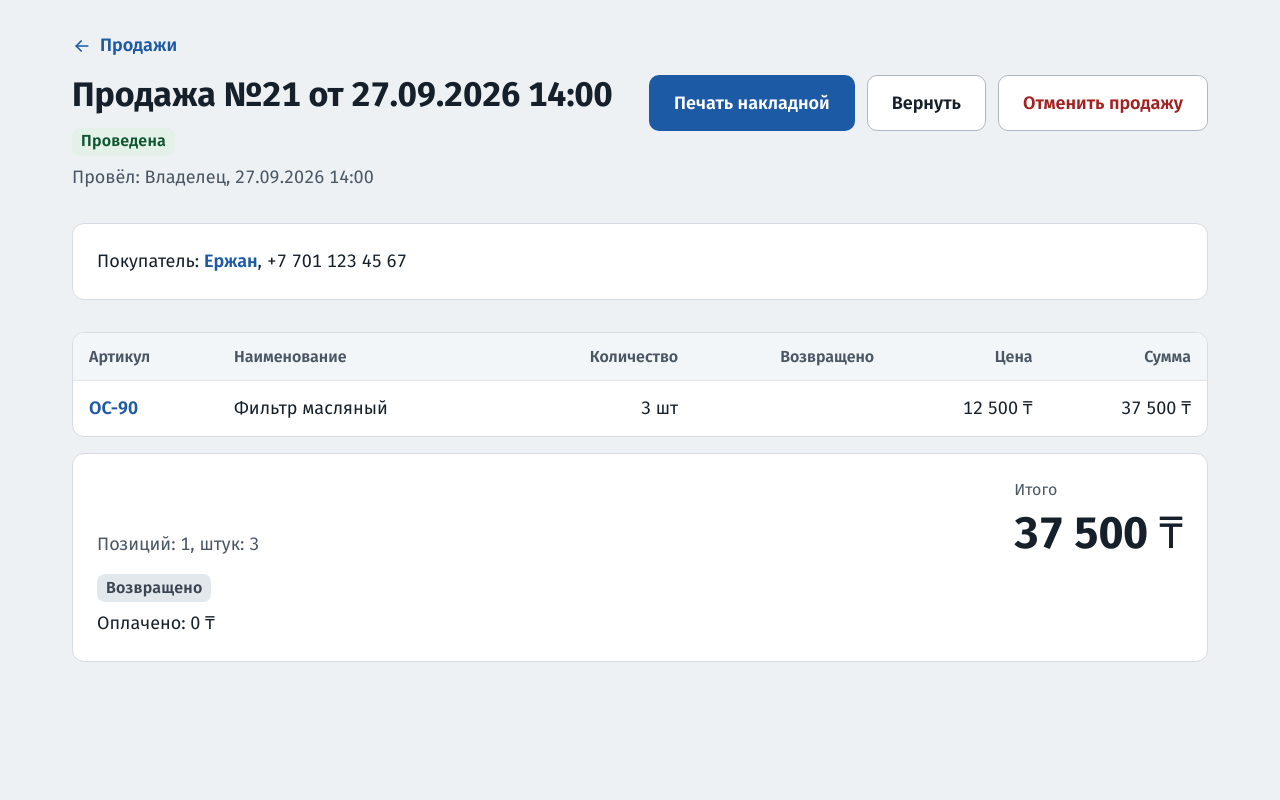
Scenario: SalePage › cancels with a reason
Click the button "Отменить продажу".
click(1103, 103)  # box [998,75,1208,131]
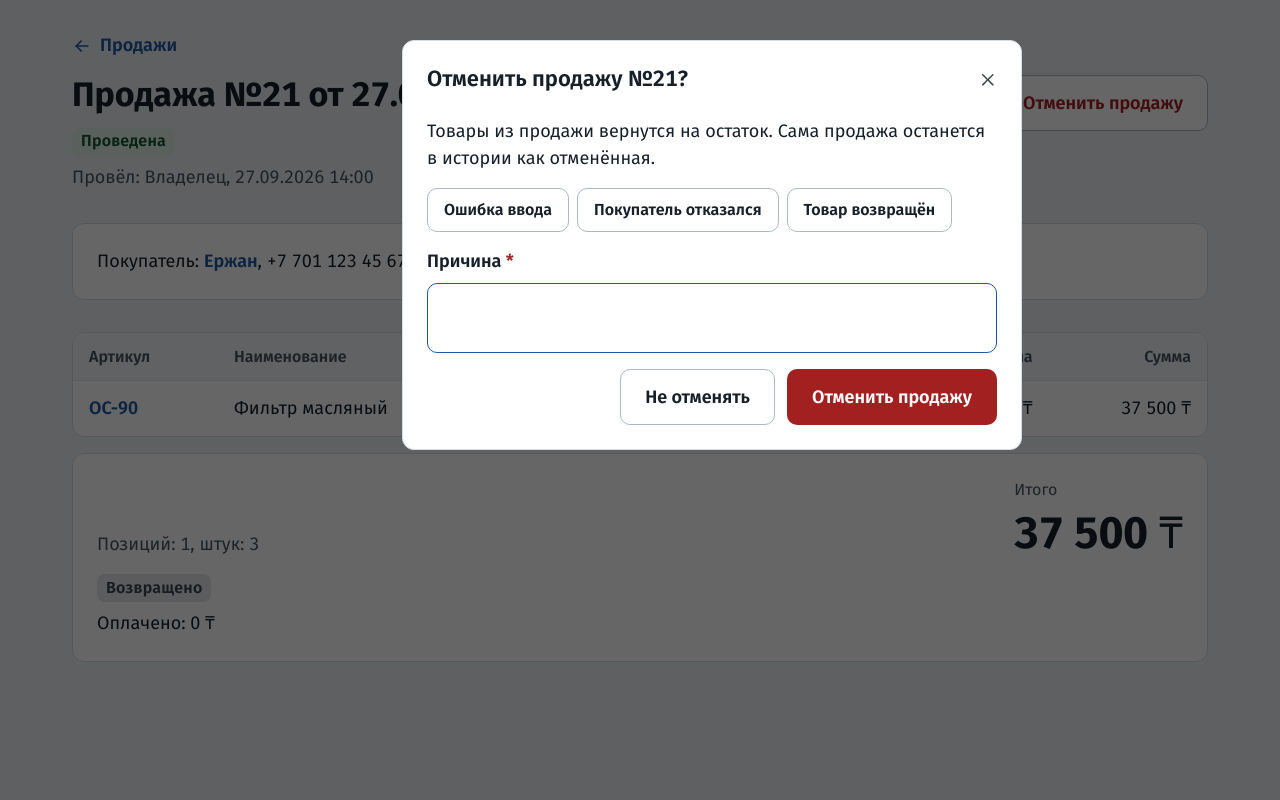
Type "Возврат" into the text box labelled "Причина".
click(712, 318); type("Возврат")  # box [427,283,997,353]
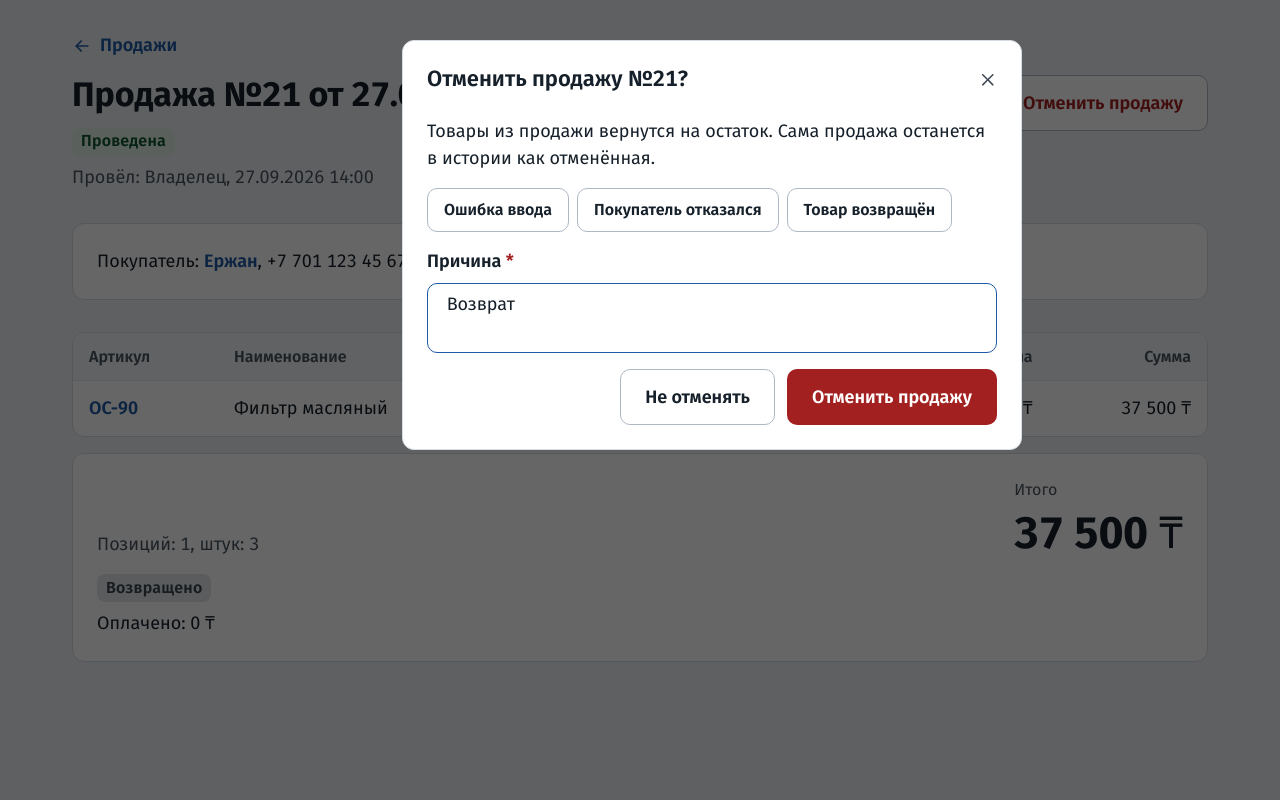
Click the button "Отменить продажу".
click(892, 397)  # box [787,369,997,425]
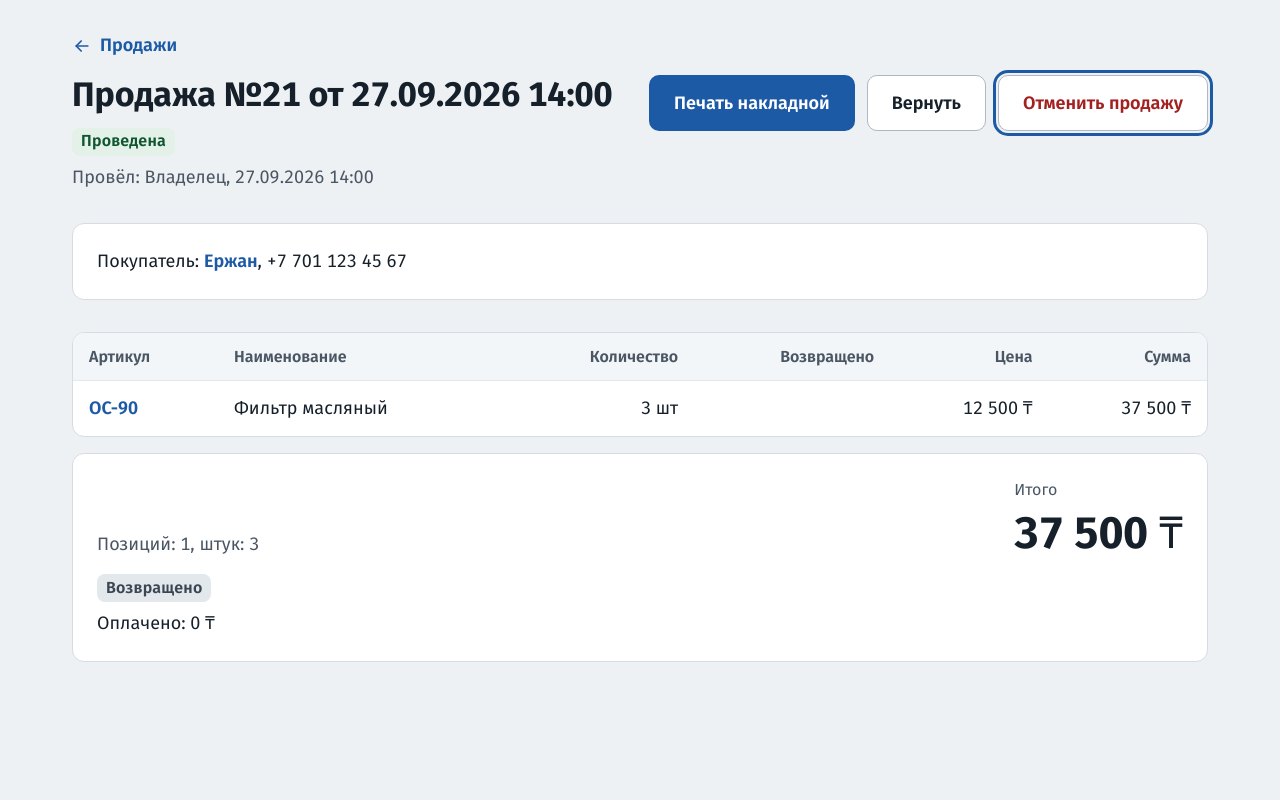
Now the dialog is gone
